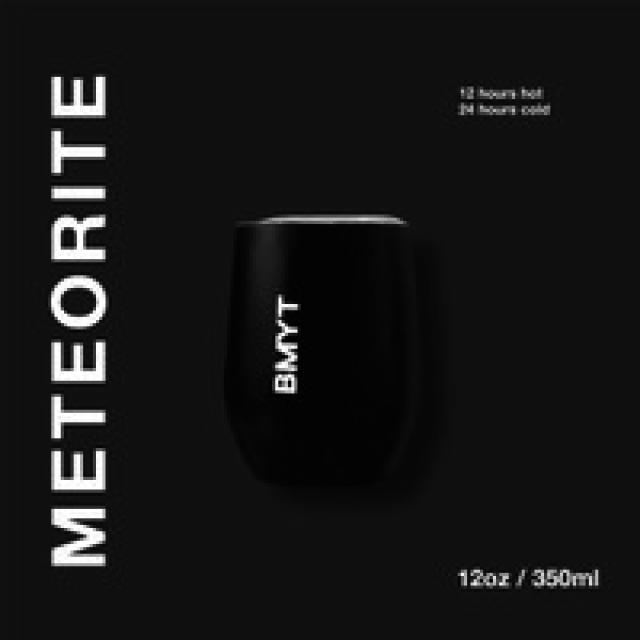bottle: (221, 212, 421, 488)
